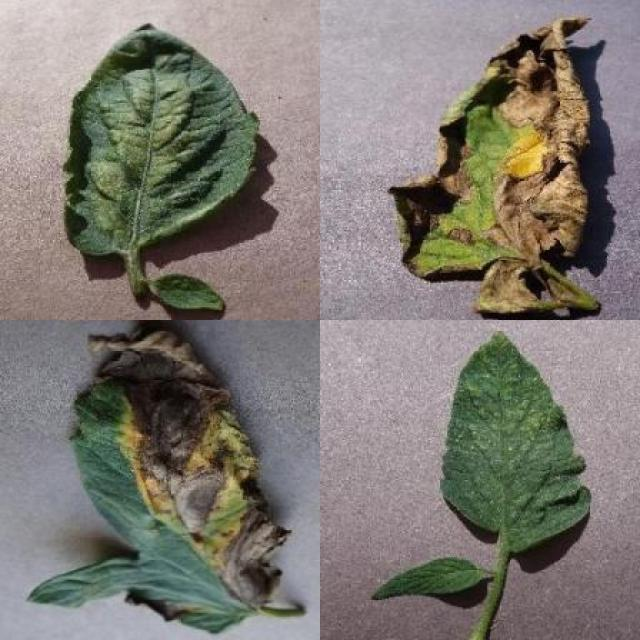Early Blight: (28, 323, 311, 637)
Late Blight: (386, 14, 591, 315)
Spider Mites: (61, 22, 258, 259), (440, 327, 593, 554)
